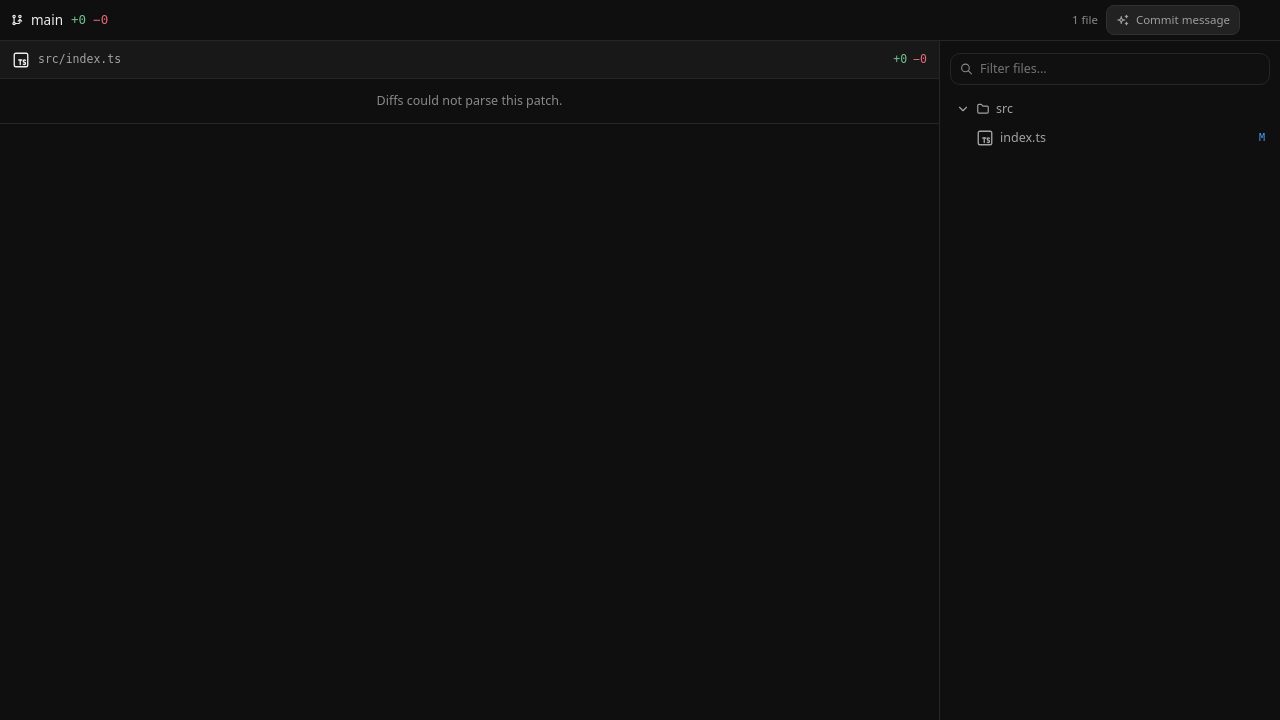
Test case: WorkspaceReview › reviews a provisional chat in the project checkout until its real id arrives
Check: the text "src/index.ts" is shown, box [38,51,121,68]
Click the button with aria-label "Draft commit message".
click(1173, 20)  # box [1106,5,1240,35]
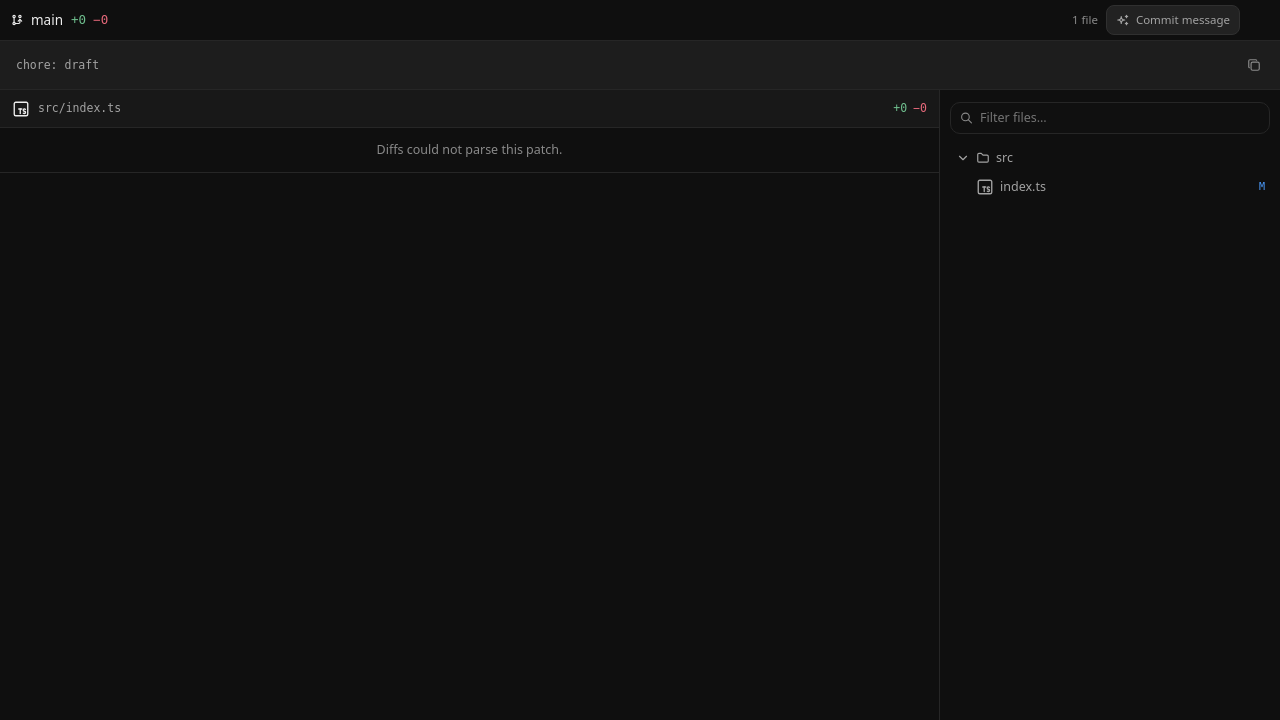
Check: the text "chore: draft" is shown, box [16,58,99,72]
